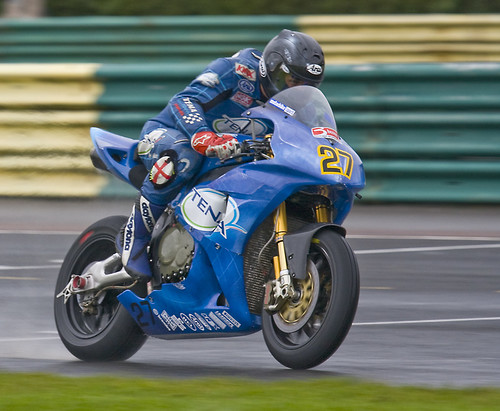helmet: (265, 16, 328, 91)
